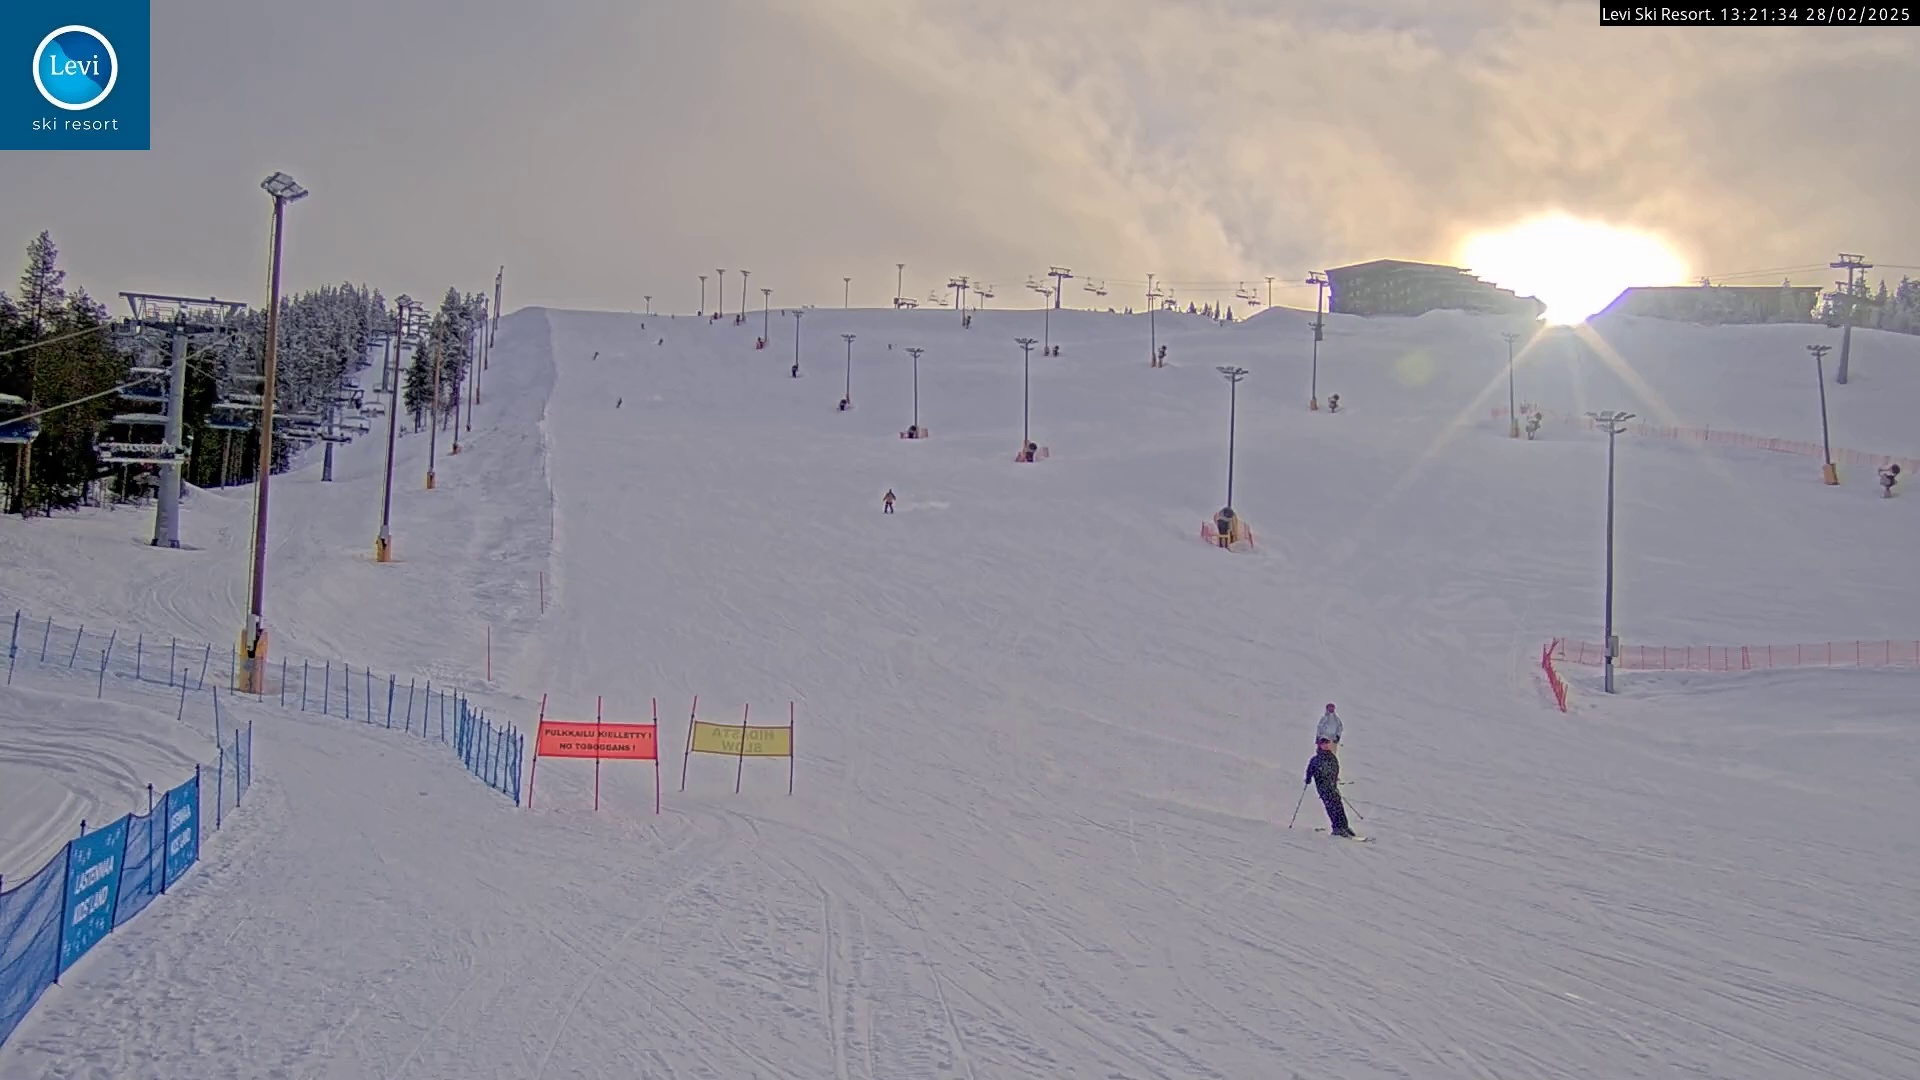skier: (1291, 737, 1371, 840)
